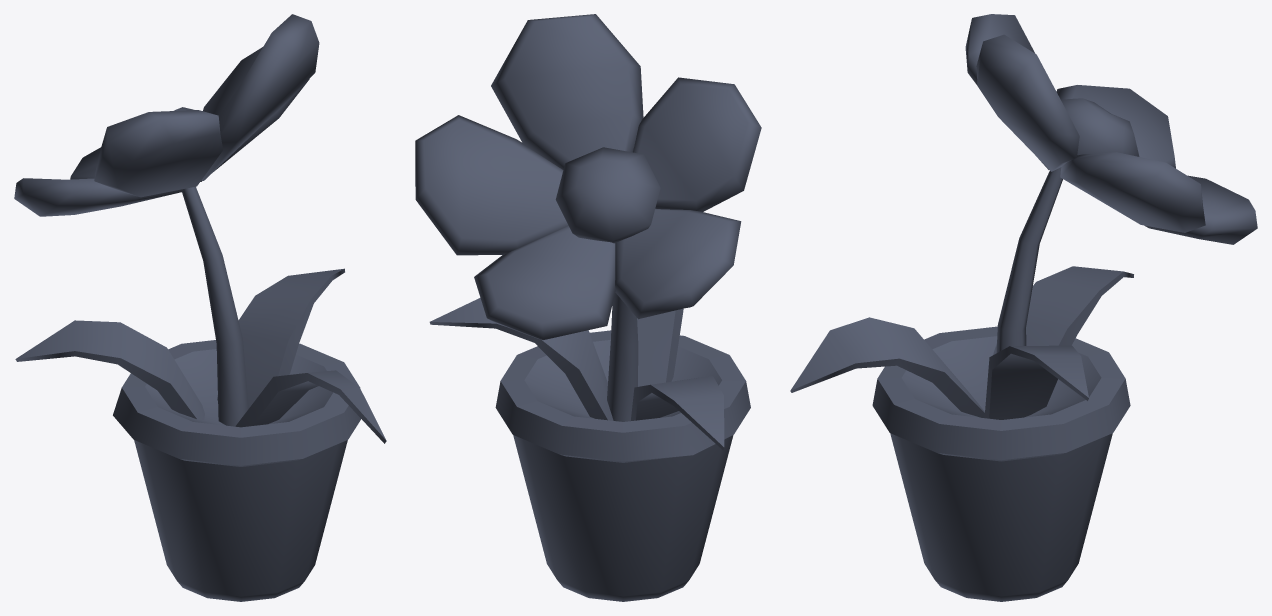
Rendered from FlowerPot.FBX.
The picture shows the model from 3 angles, left to right: view 1: azimuth 30°, elevation 25°; view 2: azimuth 150°, elevation 25°; view 3: azimuth 270°, elevation 25°; orthographic projection. The views are drawn at different scales.
Parts seen in each view (by area): view 1: FlowerPot; view 2: FlowerPot; view 3: FlowerPot.
Part boxes in pixels (x1,y1,x2,y2): FlowerPot: [14, 14, 386, 601]; FlowerPot: [415, 14, 761, 601]; FlowerPot: [790, 14, 1257, 601].
Bounding box in the file's own units: 61.39 × 101 × 77.39.
